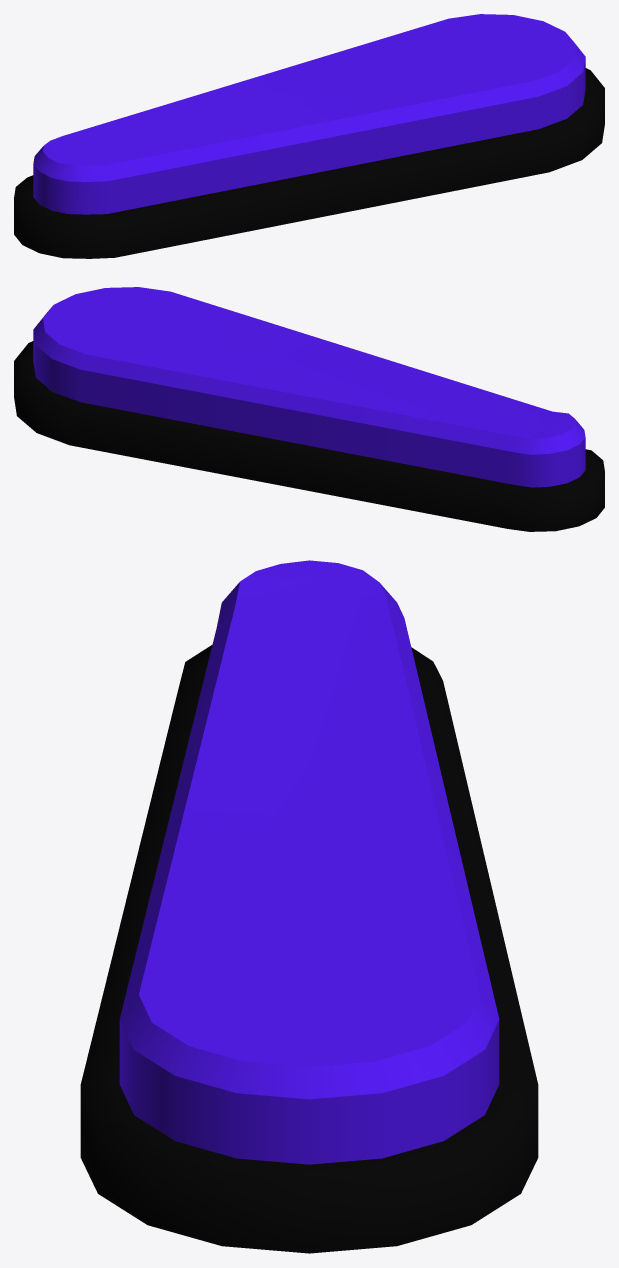
Rendered from flipper.fbx.
3 renders of one model, top to bottom at view 1: azimuth 30°, elevation 25°; view 2: azimuth 150°, elevation 25°; view 3: azimuth 270°, elevation 25°, orthographic. The views are drawn at different scales.
Parts seen in each view (by area): view 1: Cylinder003; view 2: Cylinder003; view 3: Cylinder003.
Part boxes in pixels (x1,y1,x2,y2): Cylinder003: [14, 14, 604, 258]; Cylinder003: [14, 287, 604, 531]; Cylinder003: [80, 560, 538, 1253].
Bounding box in the file's own units: 5.77 × 0.8227 × 2.01.
